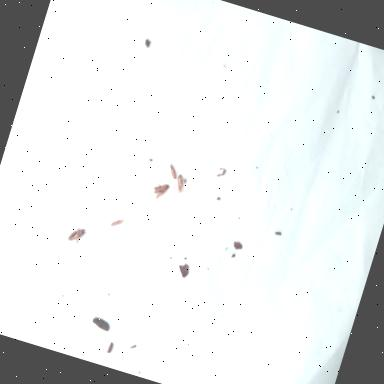pbw: (62, 220, 88, 252), (150, 178, 170, 202), (172, 172, 188, 194), (166, 162, 180, 178)
